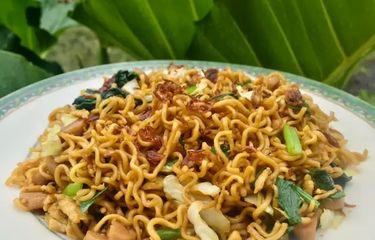Mie: (13, 59, 359, 240)
